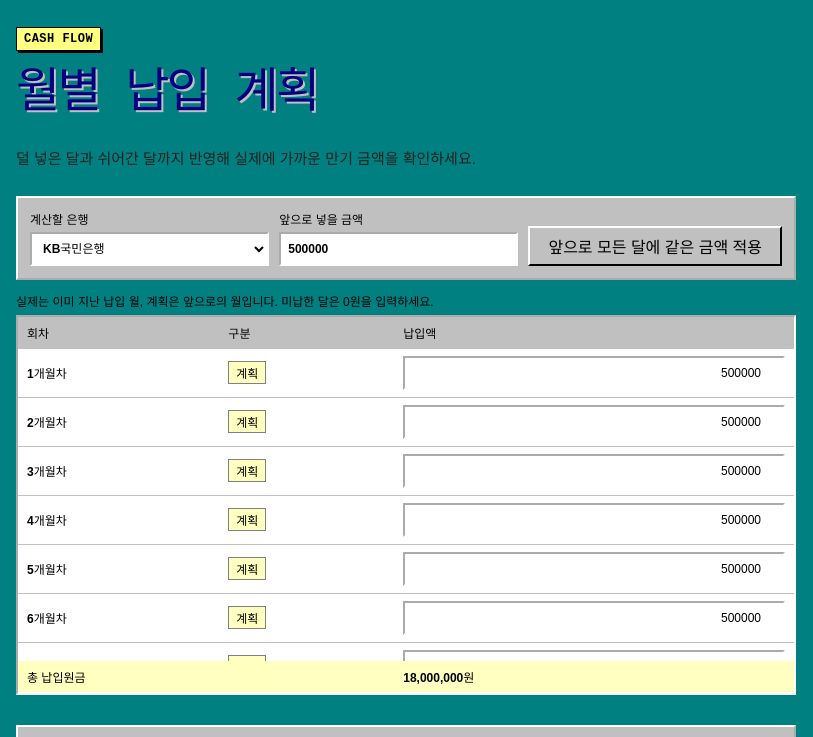
Scenario: CashflowPage › marks only invalid months and does not calculate them
Replace the text in the number field named "1개월차 납입액" in the row of "1개월차" with "999": coordinates (594, 373) [403,356,785,390]
(page scrolled)
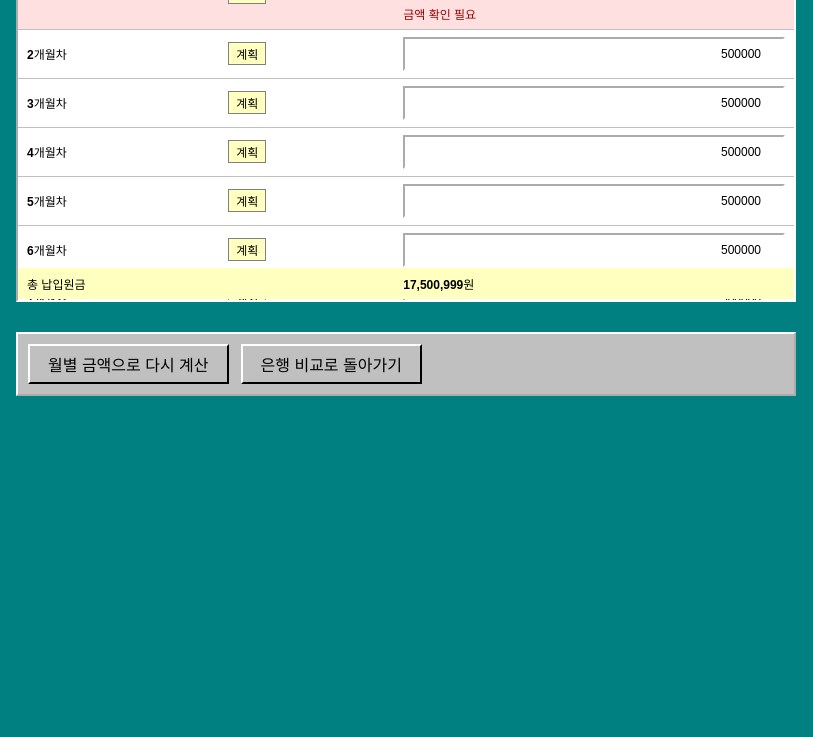
Check: the text "금액 확인 필요" is shown, box [403,8,476,22]
Check: the button "월별 금액으로 다시 계산" is disabled, box [28,344,228,384]
